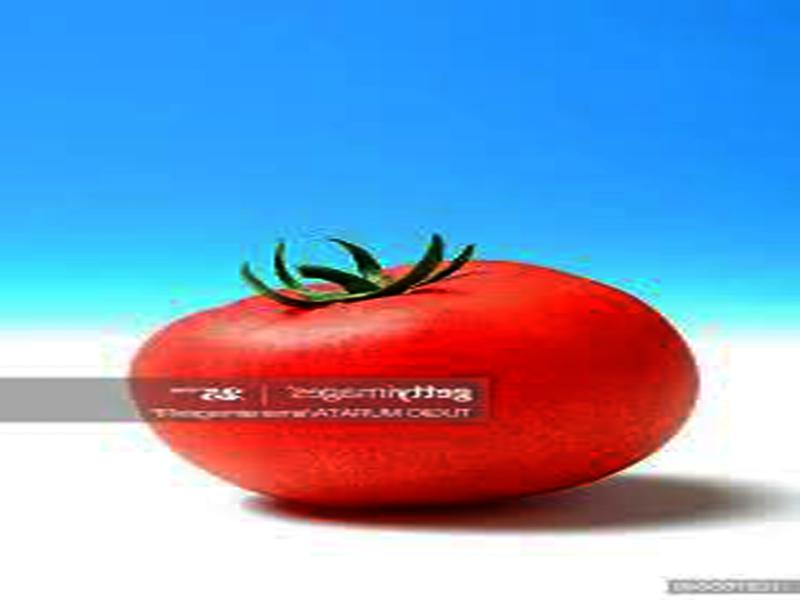Tomato: (126, 261, 694, 504)
